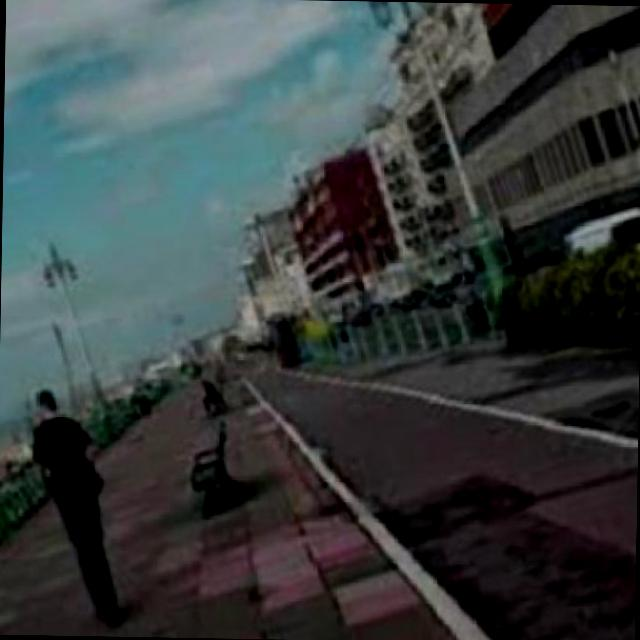Person: (10, 378, 140, 628)
